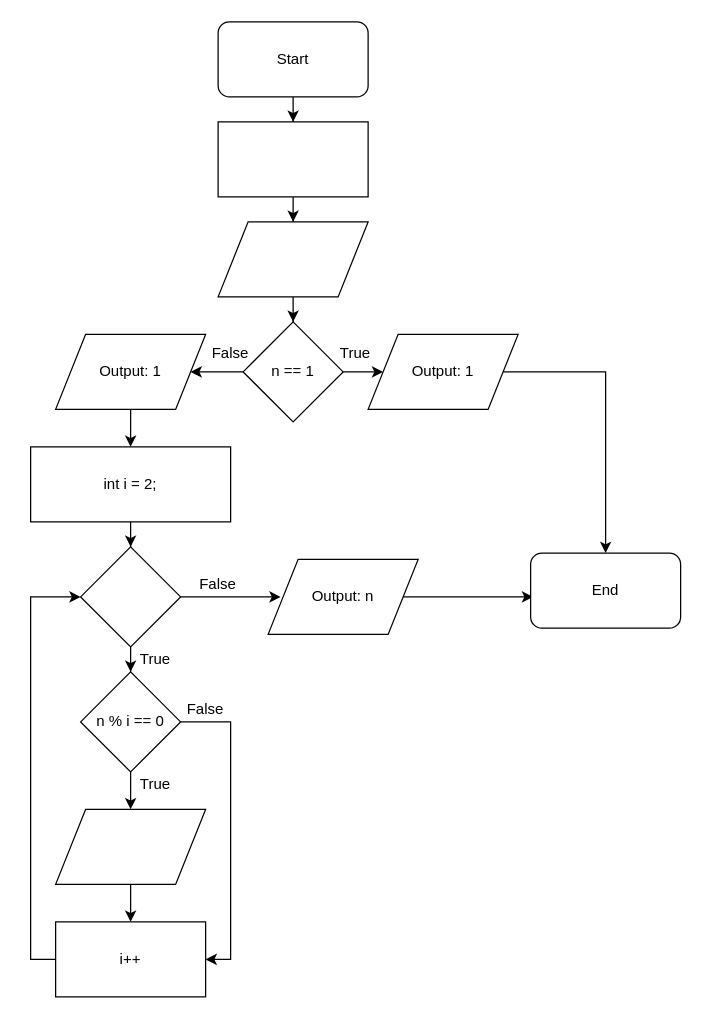
The diagram is 703 pixels wide and 1019 high, and some of its shapes have lost their labels. Here are the shapes that lost their labels. From the top down, the box of each, then its label:
(217, 121, 368, 197): int n;
(217, 221, 368, 297): Input n (n > 0)
(79, 546, 181, 647): i <= (n/2)
(54, 808, 206, 884): Output: i
